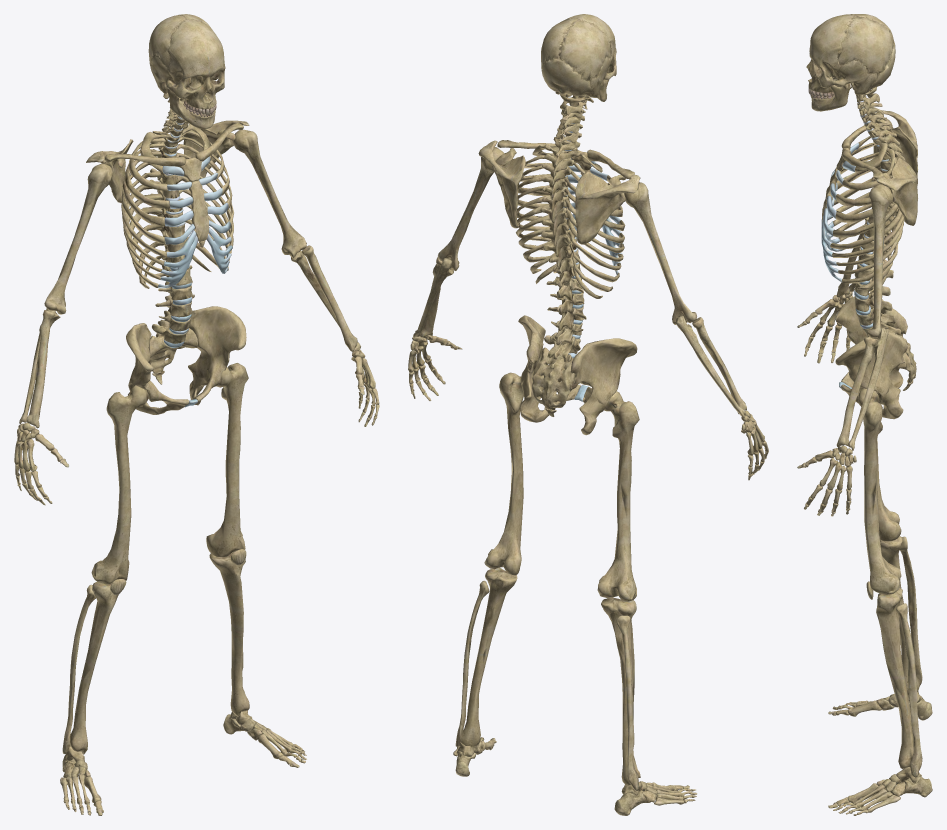
File: bones-lite.glb
3 views of the same model, side by side, from view 1: azimuth 30°, elevation 25°; view 2: azimuth 150°, elevation 25°; view 3: azimuth 270°, elevation 25° (orthographic). The views are drawn at different scales.
Parts seen in each view (by area): view 1: Cranium_m, Rib_Cage_r, Femur_r, Femur_l, Pelvis_l, Tibia_l, Tibia_r, Rib_Cage_l, Humerus_r, Costal_Cartilage_r, Pelvis_r, Humerus_l (+16 smaller); view 2: Cranium_m, Femur_r, Femur_l, Pelvis_r, Thoracic_m, Scapula_r, Tibia_l, Rib_Cage_l, Rib_Cage_r, Lumbar_m, Tibia_r, Sacrum_m (+14 smaller); view 3: Cranium_m, Rib_Cage_l, Femur_l, Tibia_l, Pelvis_l, Foot_l, Humerus_l, Hand_l, Scapula_l, Fibula_l, Pelvis_r, Lumbar_m (+18 smaller).
Boxes of the visible parts, x1,y1,x2,y2 form: Cranium_m: (148,14,225,109); Rib_Cage_r: (121,132,170,288); Femur_r: (91,385,148,584); Femur_l: (206,363,248,556); Pelvis_l: (188,306,246,405); Tibia_l: (209,552,249,716); Tibia_r: (70,581,118,754); Rib_Cage_l: (176,124,233,271); Humerus_r: (44,163,112,314); Costal_Cartilage_r: (158,166,198,288); Pelvis_r: (126,323,189,414); Humerus_l: (233,129,306,257); Cranium_m: (541,14,616,96); Femur_r: (597,391,639,601); Femur_l: (484,372,523,575); Pelvis_r: (570,338,637,435); Thoracic_m: (540,144,580,287); Scapula_r: (575,171,640,244); Tibia_l: (460,567,517,746); Rib_Cage_l: (516,144,556,283); Rib_Cage_r: (564,150,625,298); Lumbar_m: (544,276,586,361); Tibia_r: (601,597,640,785); Sacrum_m: (532,347,579,410); Cranium_m: (806,14,895,95); Rib_Cage_l: (830,139,904,292); Femur_l: (858,388,901,594); Tibia_l: (876,588,913,769); Pelvis_l: (835,331,907,419); Foot_l: (828,767,932,815); Humerus_l: (867,184,892,339); Hand_l: (797,446,856,516); Scapula_l: (871,158,917,225); Fibula_l: (896,603,922,777); Pelvis_r: (835,293,907,388); Lumbar_m: (854,264,900,337).
Size of the model in its own units: 0.8061 by 1.68 by 0.2768.
1 material, 1 textured.
